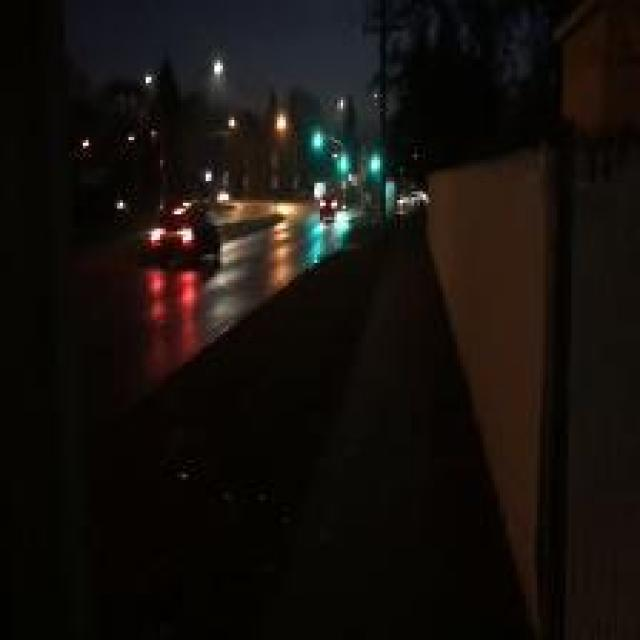other: (128, 204, 217, 360), (256, 100, 298, 286)
